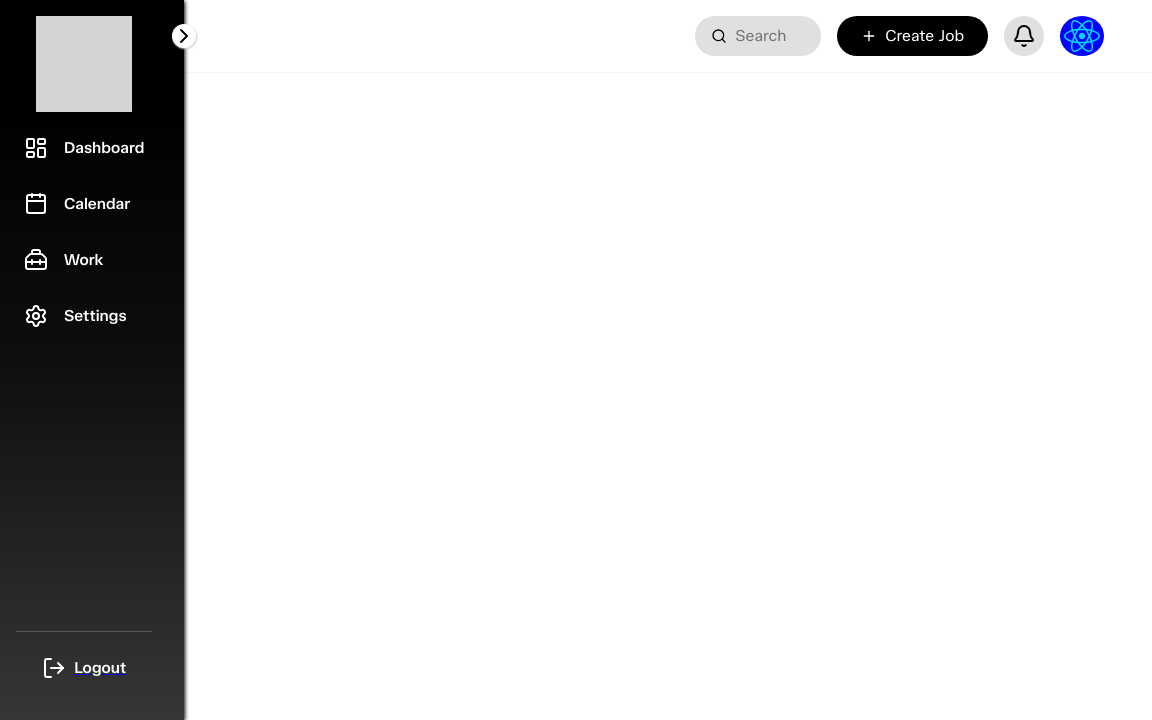
Test: Dashboard component › job window functionality › should unrender job window with cancel job btn click
What coordinates should you click on to do the following:
click the button with test id "jobWindowBtn"
I would click on:
 (913, 36)
Its box is [837,16,988,56].
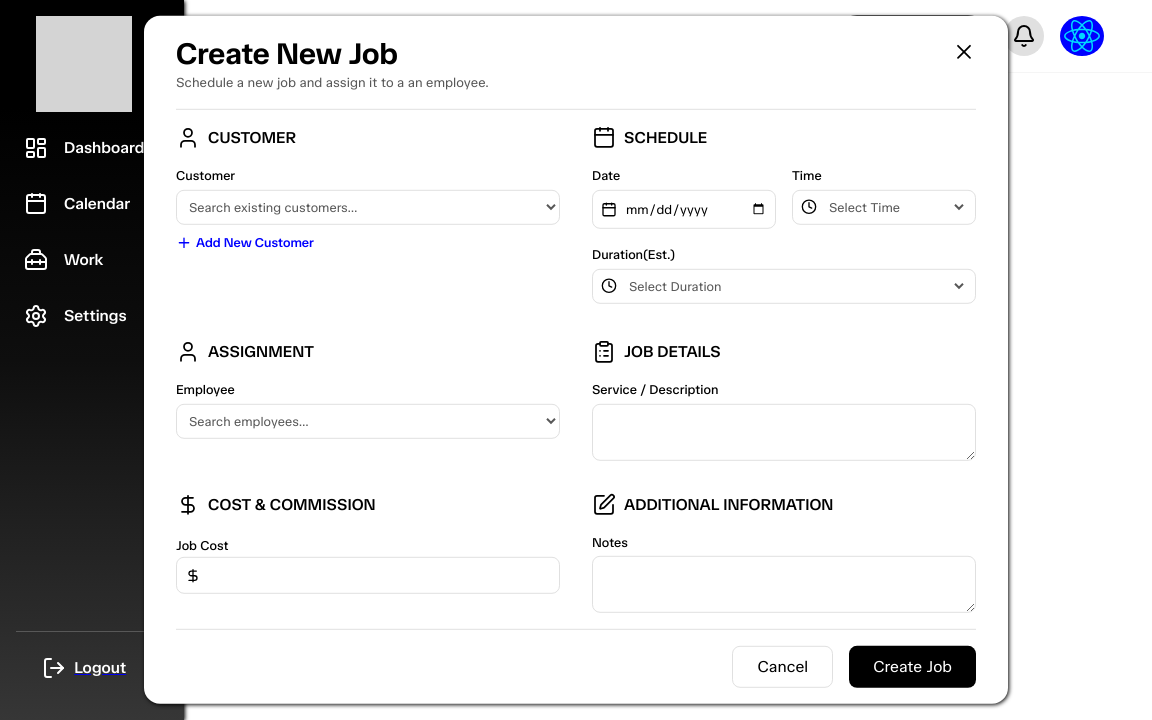
What coordinates should you click on to do the following:
click the button with test id "jobWindowCloseBtn"
I would click on:
 (783, 667)
Its box is [732,646,833,688].
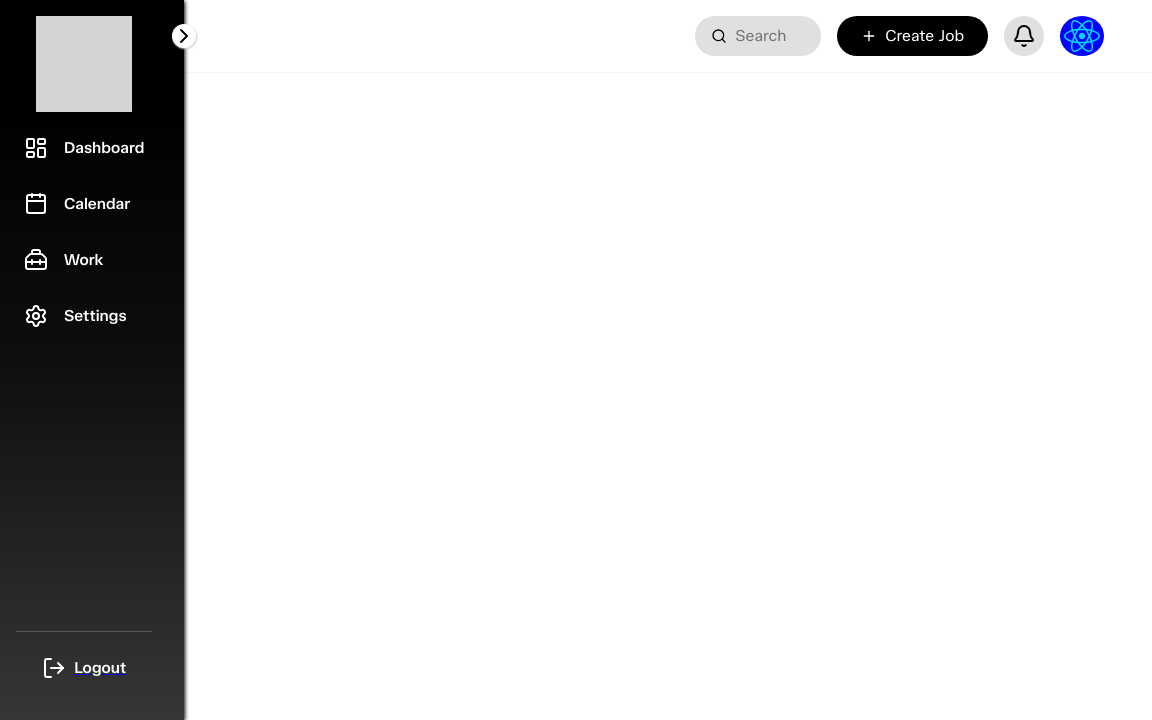
Expected: the dialog with test id "jobWindow" is gone
